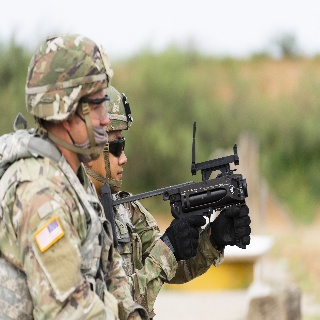rifle: (95, 120, 251, 251)
